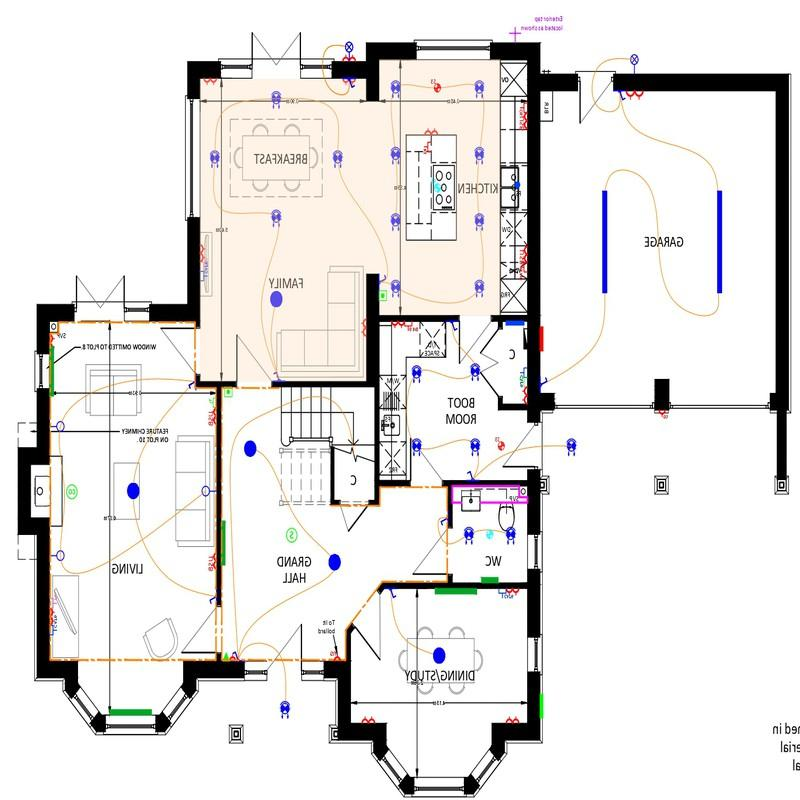BT Entry Point: (221, 651, 229, 661)
Cat 6 Data Socket: (199, 265, 210, 284), (518, 365, 528, 383), (495, 588, 508, 600), (49, 624, 60, 637)
Ceiling Mounted Continuous Extract Fan With Boost Mode Activated By Light Switch: (483, 526, 497, 547)
Ceiling Mounted Continuous Extract Fan With Local Boost Switch: (492, 435, 513, 456), (428, 78, 444, 94)
Co-Ax TV Socket: (49, 595, 57, 609)
Consumer Unit: (522, 327, 527, 352)
Double Socket: (358, 315, 368, 342), (422, 126, 447, 136), (336, 53, 367, 61), (201, 78, 223, 89), (199, 239, 209, 263), (358, 714, 380, 724), (504, 588, 522, 600), (390, 320, 405, 333), (502, 715, 525, 723), (626, 91, 646, 100), (48, 609, 59, 625), (341, 78, 360, 87), (521, 386, 528, 410)
Electric Meter Box: (538, 323, 545, 353)
External Wall Light: (621, 50, 645, 73), (340, 40, 359, 59)
Gas Meter Box: (538, 689, 550, 721)
Hob Switch: (422, 139, 432, 157), (514, 100, 528, 112), (405, 322, 418, 333)
Internal Wall Light: (49, 549, 68, 567), (202, 482, 216, 504), (50, 418, 66, 436)
Light Switch: (344, 75, 358, 94), (384, 586, 403, 599), (439, 512, 450, 530), (613, 89, 627, 103), (444, 321, 462, 331), (463, 469, 479, 480), (230, 649, 243, 661), (208, 591, 217, 608), (186, 378, 196, 393), (540, 373, 548, 391)
Low Energy Downlighter: (328, 148, 350, 174), (561, 434, 583, 459), (267, 207, 290, 230), (466, 79, 491, 100), (472, 208, 492, 234), (461, 525, 481, 549), (267, 89, 288, 111), (277, 699, 294, 726), (388, 208, 405, 235), (384, 144, 403, 168), (469, 276, 487, 300), (467, 361, 482, 389), (503, 525, 522, 546), (389, 75, 404, 99), (468, 436, 484, 458), (206, 148, 222, 170), (411, 436, 426, 459), (472, 145, 487, 167), (387, 279, 404, 298), (410, 361, 424, 384)
Low Energy Pendant Light: (263, 286, 288, 309), (429, 641, 449, 668), (324, 547, 343, 575), (242, 438, 261, 461), (124, 482, 145, 502)
Mains Wired Smoke Detector: (283, 526, 299, 547)
Outside Socket: (656, 409, 670, 420)
Outside Tap: (507, 26, 526, 42)
Oven Switch: (515, 263, 528, 277)
Programmable Room Thermostat: (222, 386, 237, 399)
Radiator: (432, 585, 484, 596), (48, 344, 58, 397), (108, 706, 157, 715), (221, 517, 229, 570), (476, 573, 506, 583)
Recirculating Extractor Fan: (428, 179, 447, 198)
Single Socket: (45, 333, 57, 344), (331, 651, 342, 662), (228, 650, 236, 662)
Telephone Socket: (206, 394, 217, 408)
Twin LED Strip Light: (710, 189, 727, 299), (600, 187, 609, 297)
USB Double Socket: (204, 549, 217, 576), (203, 407, 217, 428), (518, 241, 528, 262), (517, 112, 528, 130)
Underfloor Heating Manifold: (503, 320, 527, 327)
Water Entry Position: (510, 179, 523, 194)
